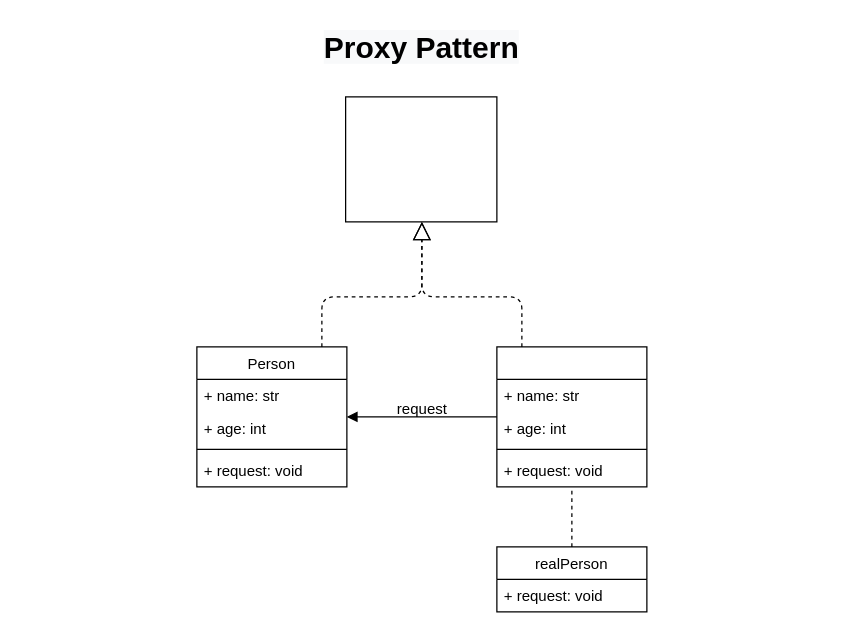
Some shapes in this 843 by 636 pixel diagram are drawn without their labels. The shapes that lost their labels are listed below. From the top down, each one's box as (x1, y1, x2, y2) in pixels, then its label:
(344, 96, 497, 222): <<Interface>> IPerson + name: str + age: int
(496, 346, 647, 487): ProxyPerson
